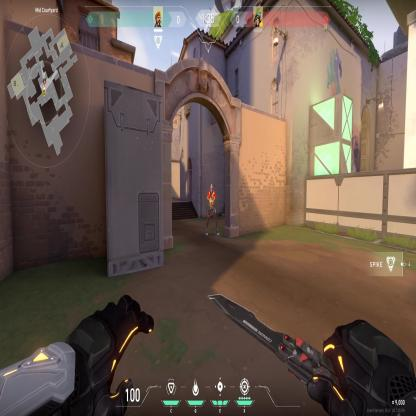enemy: (205, 182, 220, 235)
